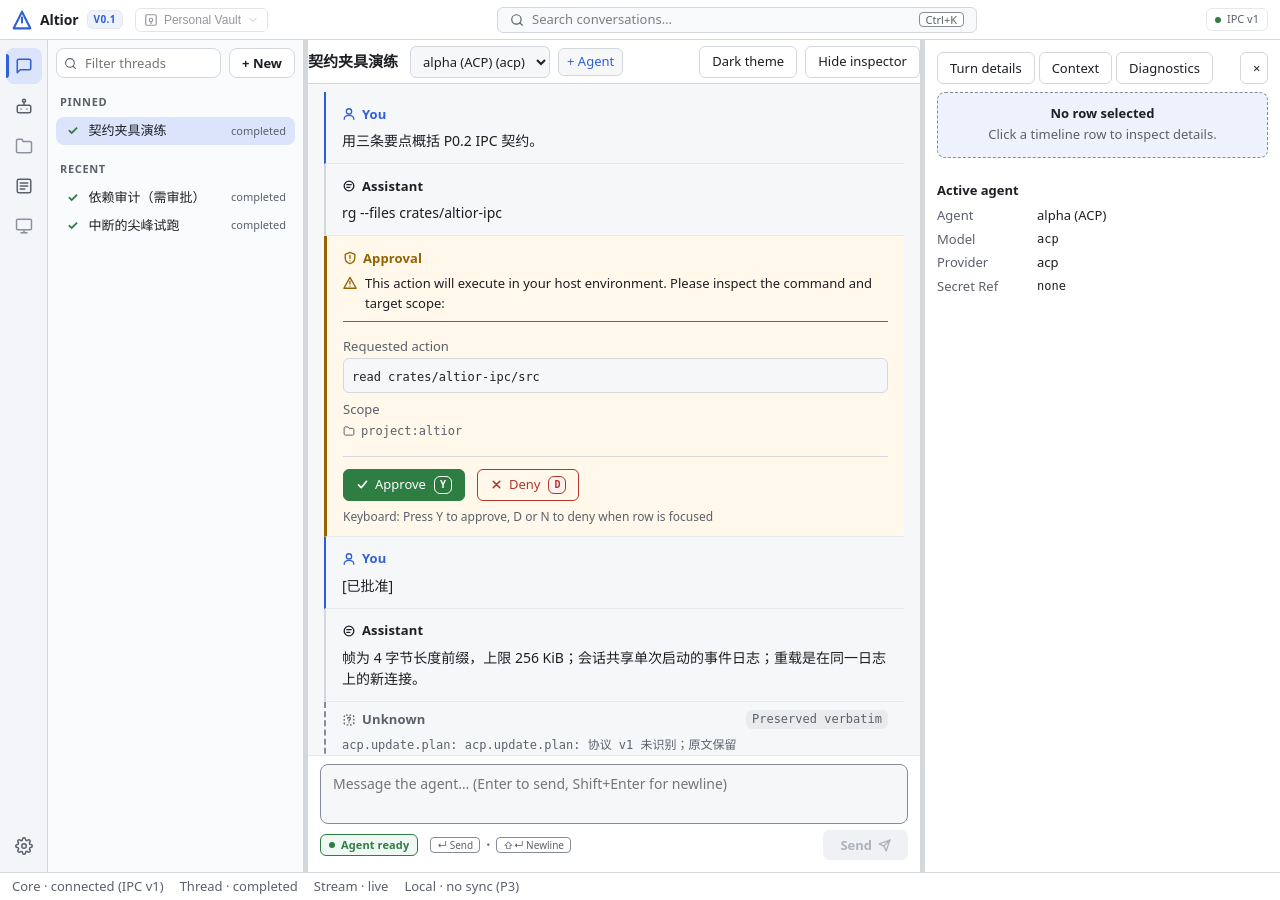
Test case: Transport Integration & UI Workflow › creates a new thread from the threads pane
Expected: the heading "契约夹具演练" is shown, [308, 50, 398, 73]
Click the button with test id "new-thread".
click(262, 63)  # box [229, 48, 295, 78]
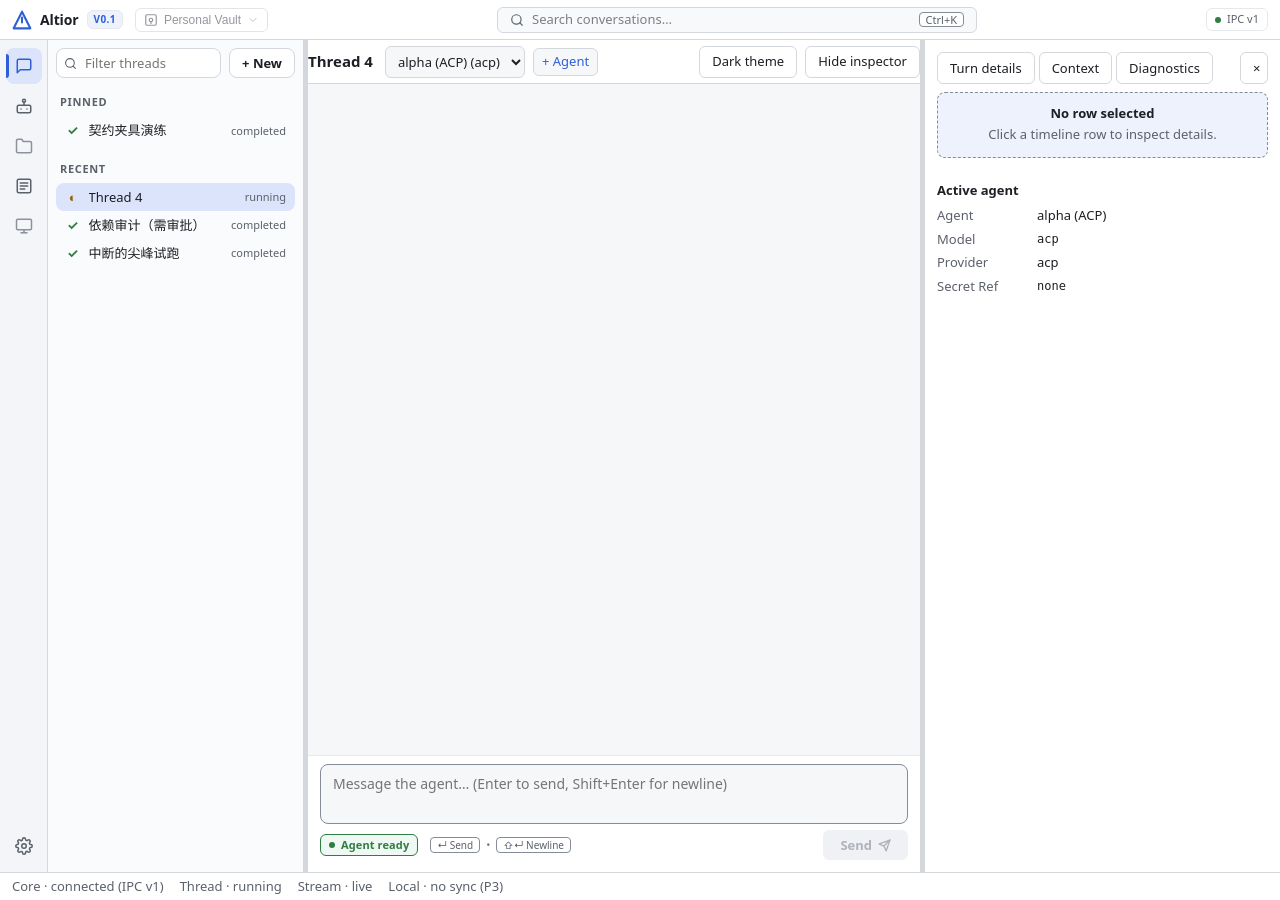
Now the heading "Thread 4" is shown, box [308, 50, 373, 73]
